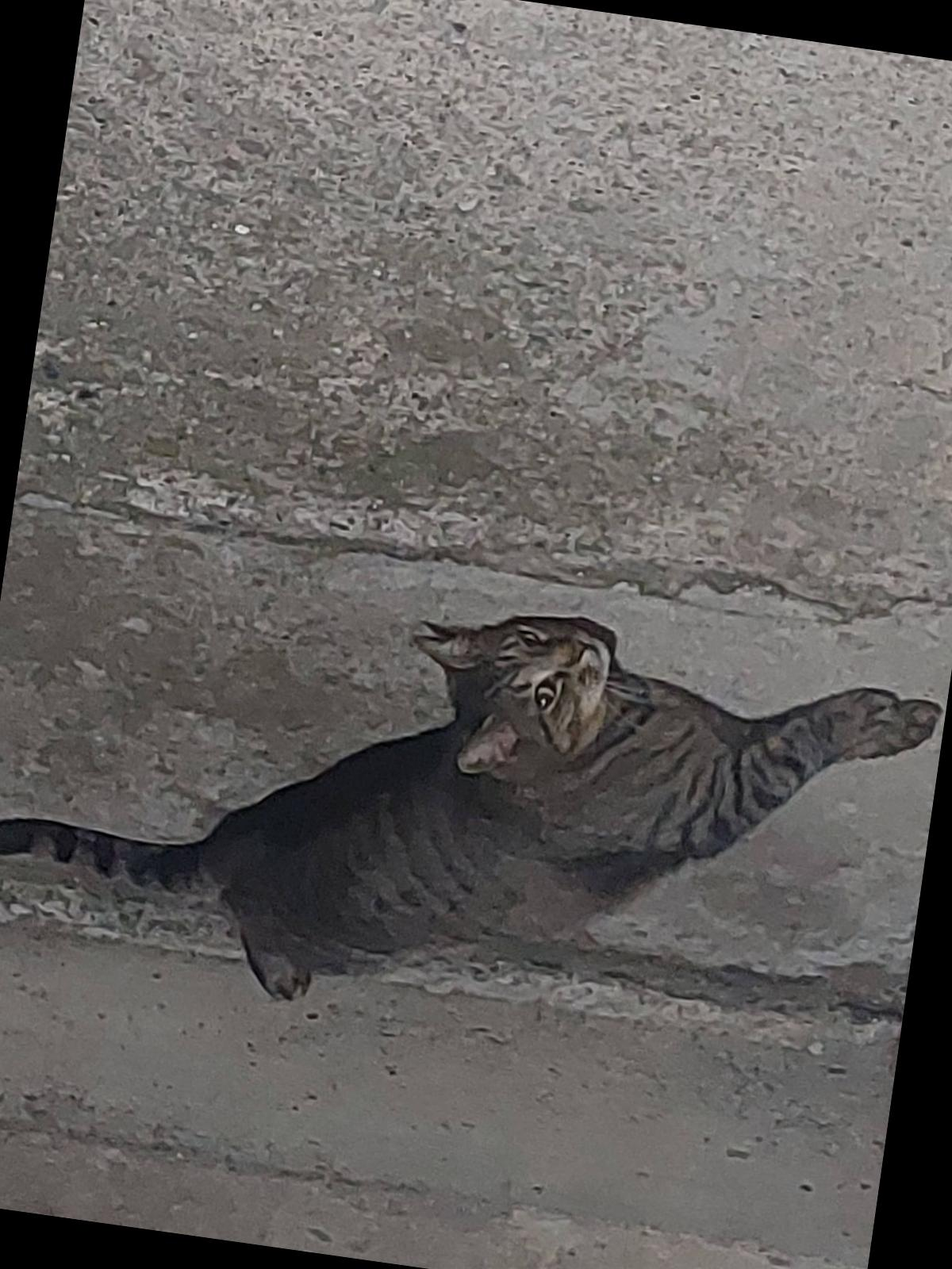macka: (0, 542, 944, 1084)
